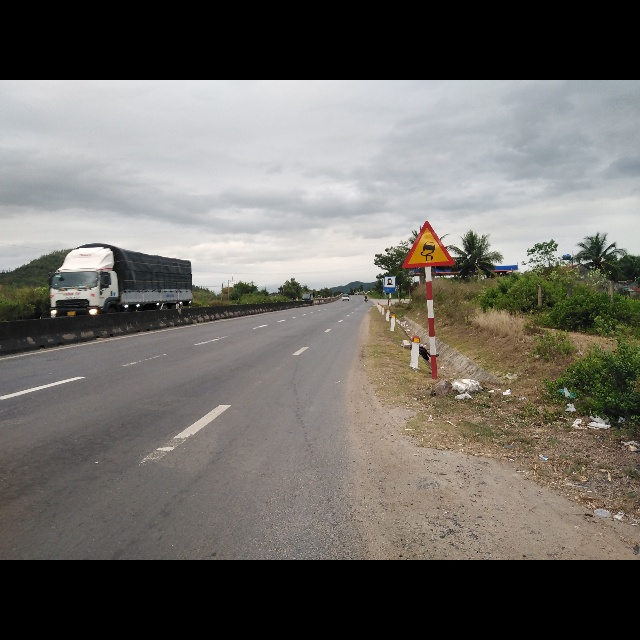Đường trơn trượt: (402, 218, 455, 269)
